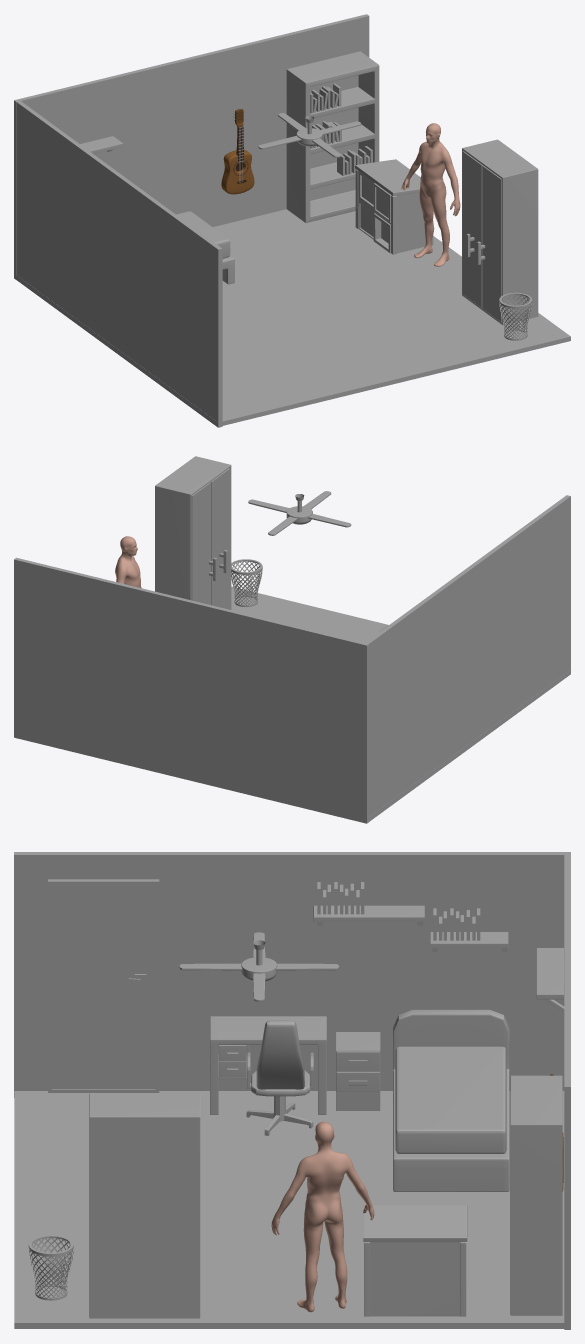
File: Escenario_Prueba.fbx
3 views of the same model, one above another, from view 1: azimuth 30°, elevation 25°; view 2: azimuth 150°, elevation 25°; view 3: azimuth 270°, elevation 25° (orthographic). The views are drawn at different scales.
Visible parts, largest first — view 1: pCube1, pCube56, pCube55, pCube35, polySurface75, pCube89, humanBody, polySurface74, polySurface73, pCube34, pCylinder4, polySurface97 (+2 smaller); view 2: pCube55, pCube56, polySurface75, pCube1, polySurface74, polySurface73, pCube34, pCylinder4, humanBody; view 3: pCube56, pCube1, polySurface75, pCube52, pCube35, pCube44, pCube89, pCube45, humanBody, polySurface12, polySurface18, polySurface19 (+8 smaller).
Part boxes in pixels (bbox=[...]): pCube1: bbox=[14, 209, 570, 426]; pCube56: bbox=[16, 99, 222, 427]; pCube55: bbox=[14, 14, 369, 279]; pCube35: bbox=[286, 51, 379, 222]; polySurface75: bbox=[462, 139, 538, 324]; pCube89: bbox=[355, 159, 433, 254]; humanBody: bbox=[401, 123, 460, 266]; polySurface74: bbox=[482, 165, 501, 321]; polySurface73: bbox=[463, 151, 482, 307]; pCube34: bbox=[258, 113, 361, 157]; pCylinder4: bbox=[499, 292, 532, 340]; polySurface97: bbox=[221, 150, 254, 194]; pCube55: bbox=[14, 557, 369, 823]; pCube56: bbox=[363, 495, 570, 821]; polySurface75: bbox=[155, 456, 231, 609]; pCube1: bbox=[231, 586, 570, 822]; polySurface74: bbox=[211, 468, 230, 609]; polySurface73: bbox=[191, 482, 210, 604]; pCube34: bbox=[248, 491, 351, 535]; pCylinder4: bbox=[231, 559, 262, 607]; humanBody: bbox=[115, 536, 141, 588]; pCube56: bbox=[14, 852, 569, 1097]; pCube1: bbox=[14, 1091, 569, 1328]; polySurface75: bbox=[89, 1093, 200, 1318]; pCube52: bbox=[48, 879, 159, 1092]; pCube35: bbox=[510, 1075, 562, 1315]; pCube44: bbox=[395, 1046, 506, 1153]; pCube89: bbox=[363, 1205, 467, 1316]; pCube45: bbox=[393, 1009, 509, 1191]; humanBody: bbox=[271, 1121, 374, 1312]; polySurface12: bbox=[246, 1020, 313, 1135]; polySurface18: bbox=[210, 1016, 326, 1114]; polySurface19: bbox=[336, 1032, 380, 1110].
Size of the model in its own units: 500 by 271 by 501.
